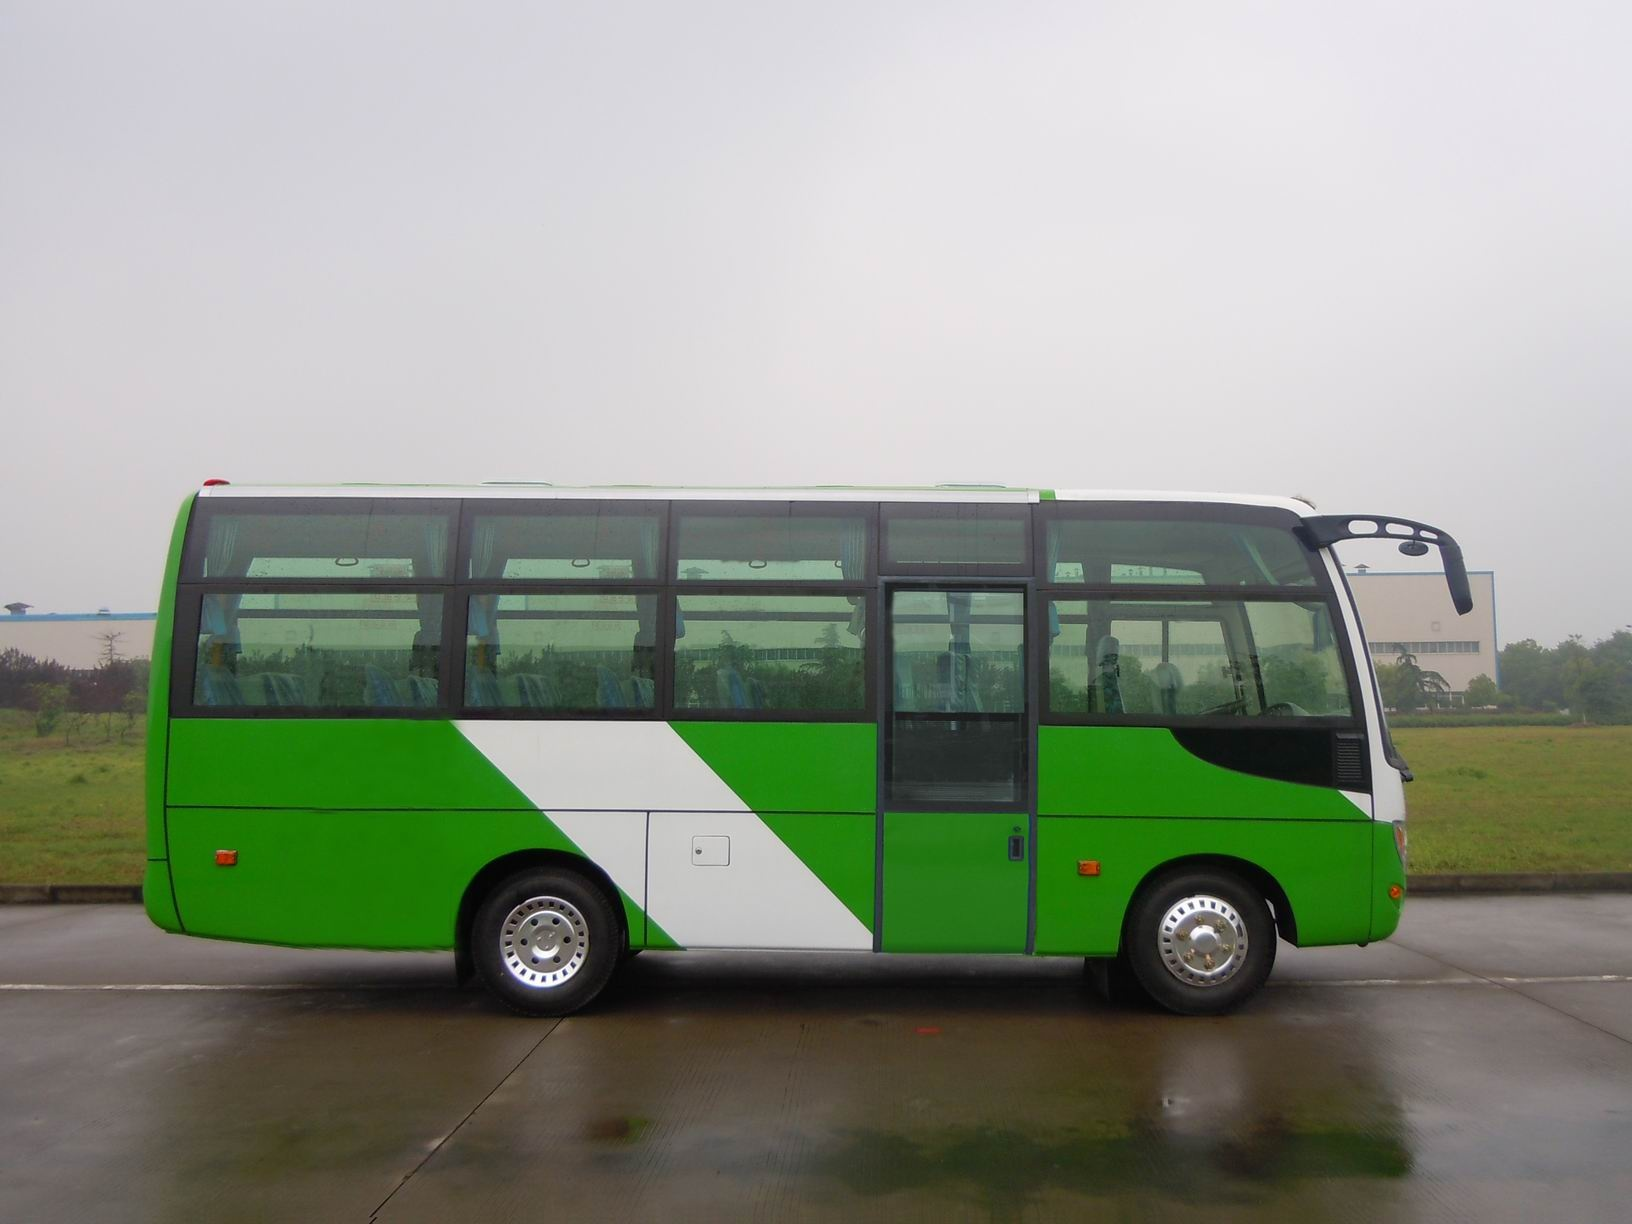bus: (130, 410, 1487, 1039)
